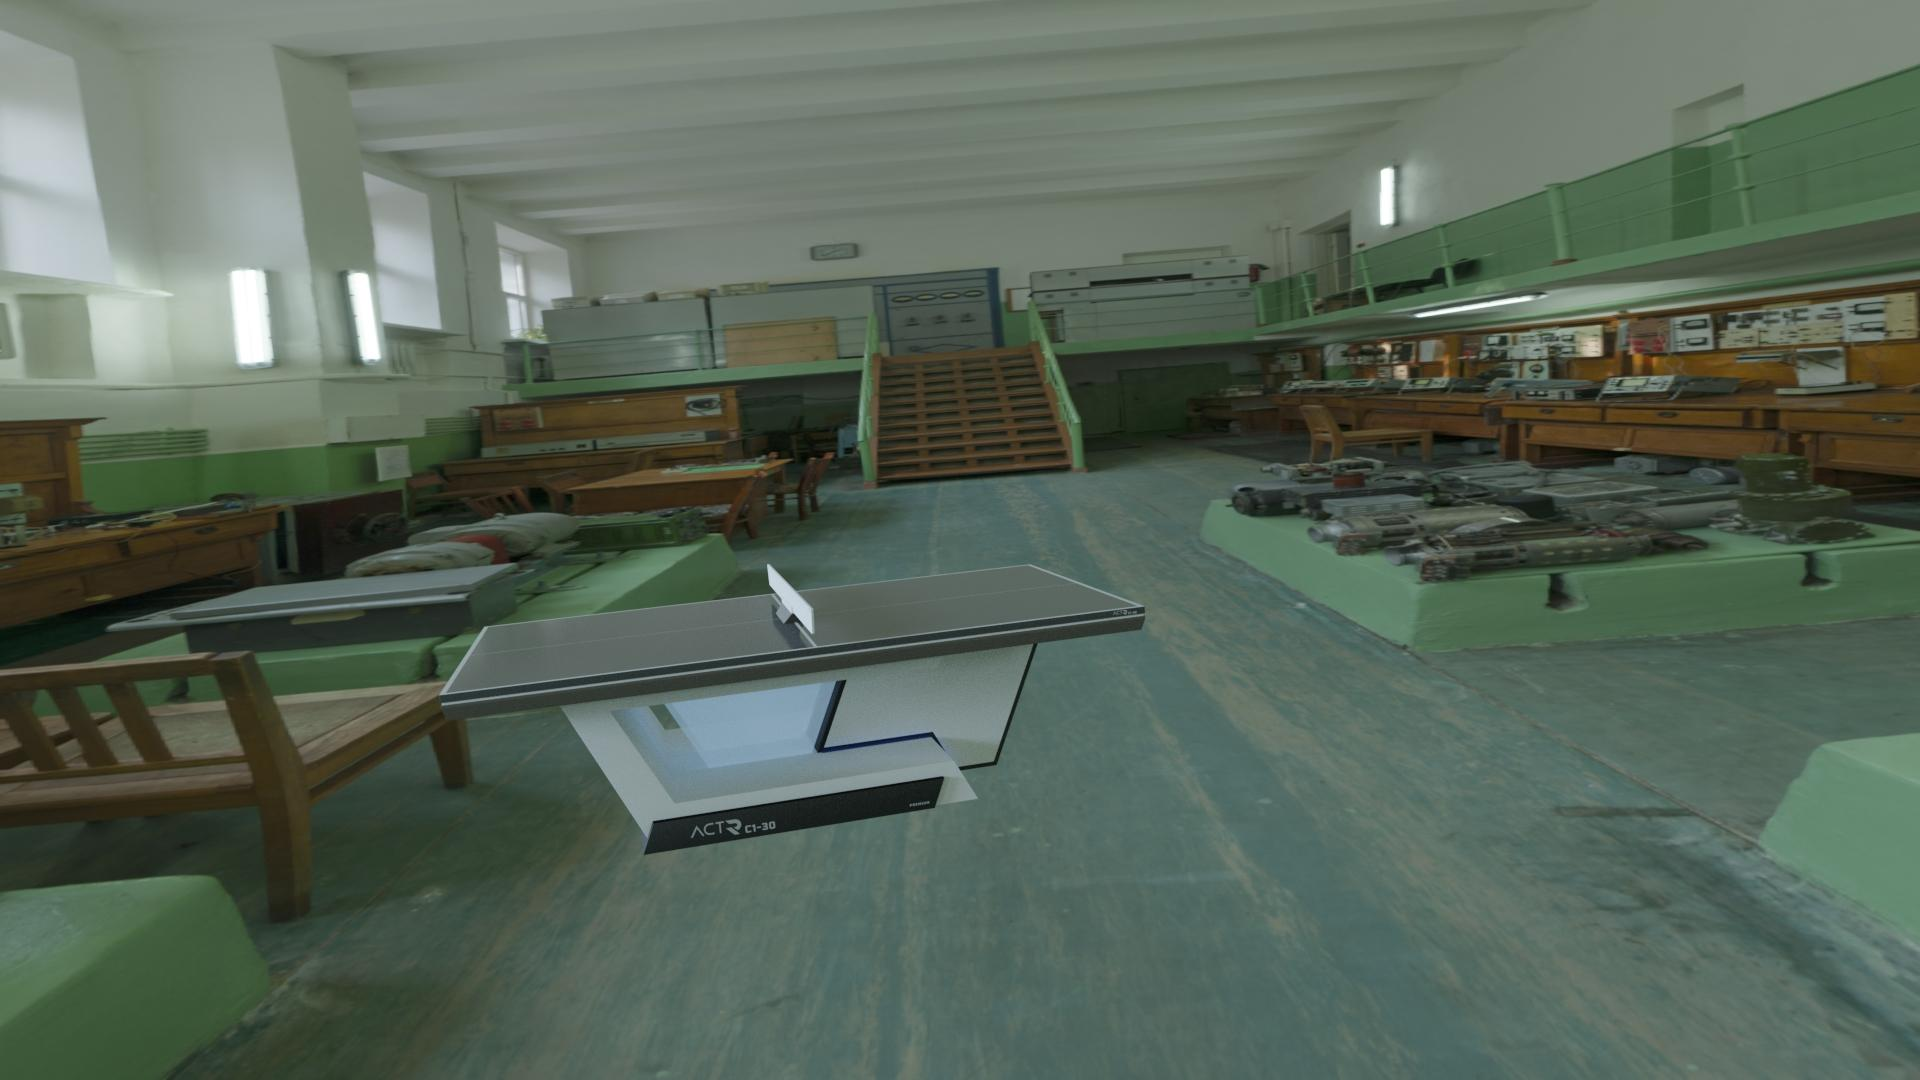table: (446, 566, 1138, 694)
